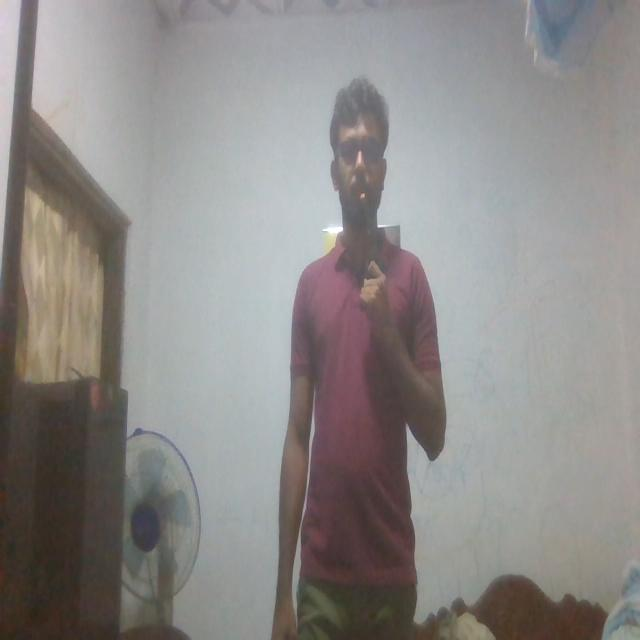Gun_Holder: (348, 186, 390, 314)
Person: (271, 83, 448, 640)
